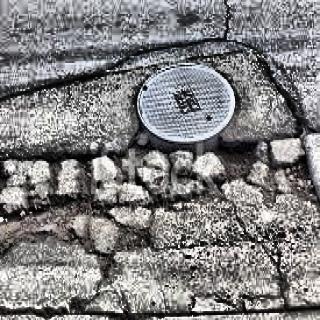crack: (255, 50, 313, 134), (106, 37, 227, 60), (0, 71, 106, 96), (265, 253, 304, 320), (97, 256, 135, 307), (208, 0, 240, 48)
pothole: (1, 140, 320, 250)
